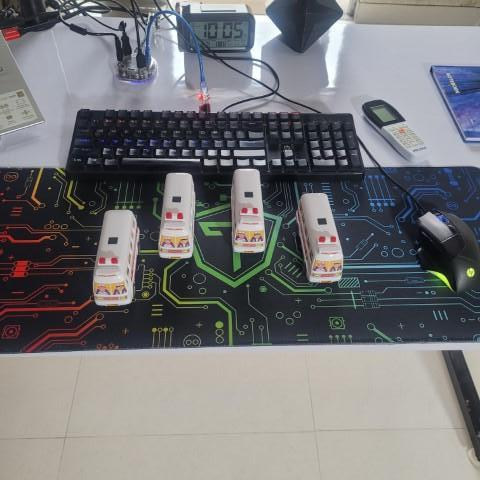ambulance: (291, 188, 347, 292), (94, 208, 144, 307), (228, 168, 269, 260), (160, 169, 200, 263)
